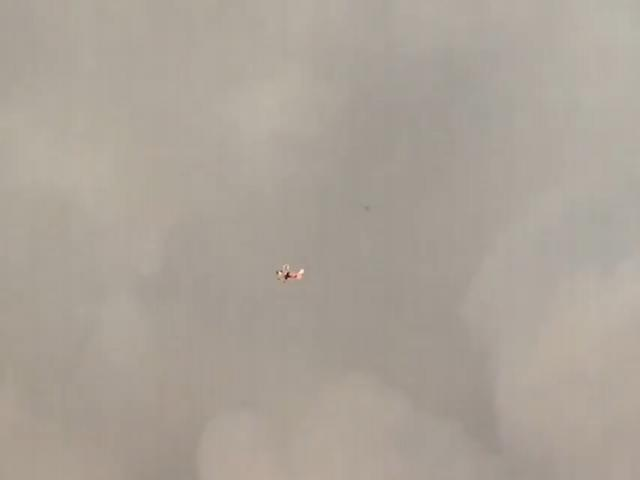plane: (276, 266, 305, 282)
